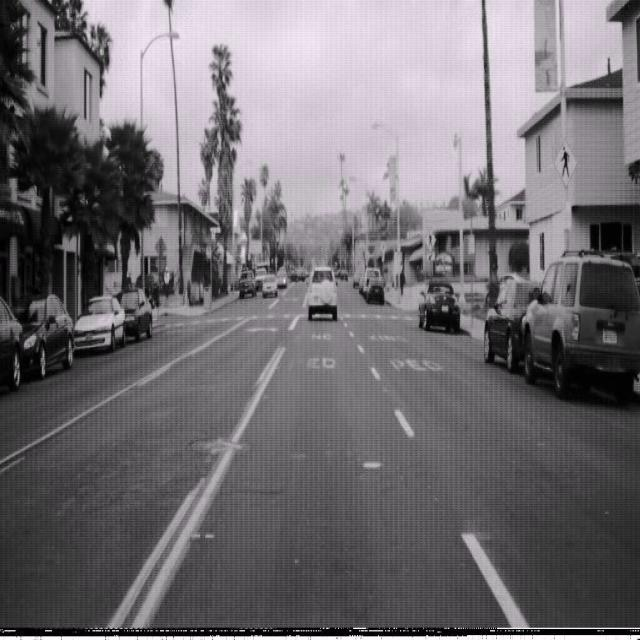pedestrianCrossing: (553, 137, 578, 189), (424, 226, 437, 251)
